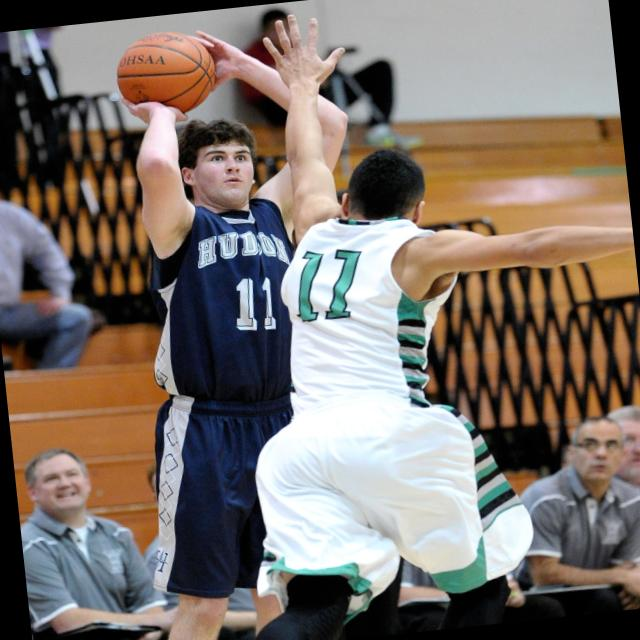Ball: (111, 24, 220, 119)
